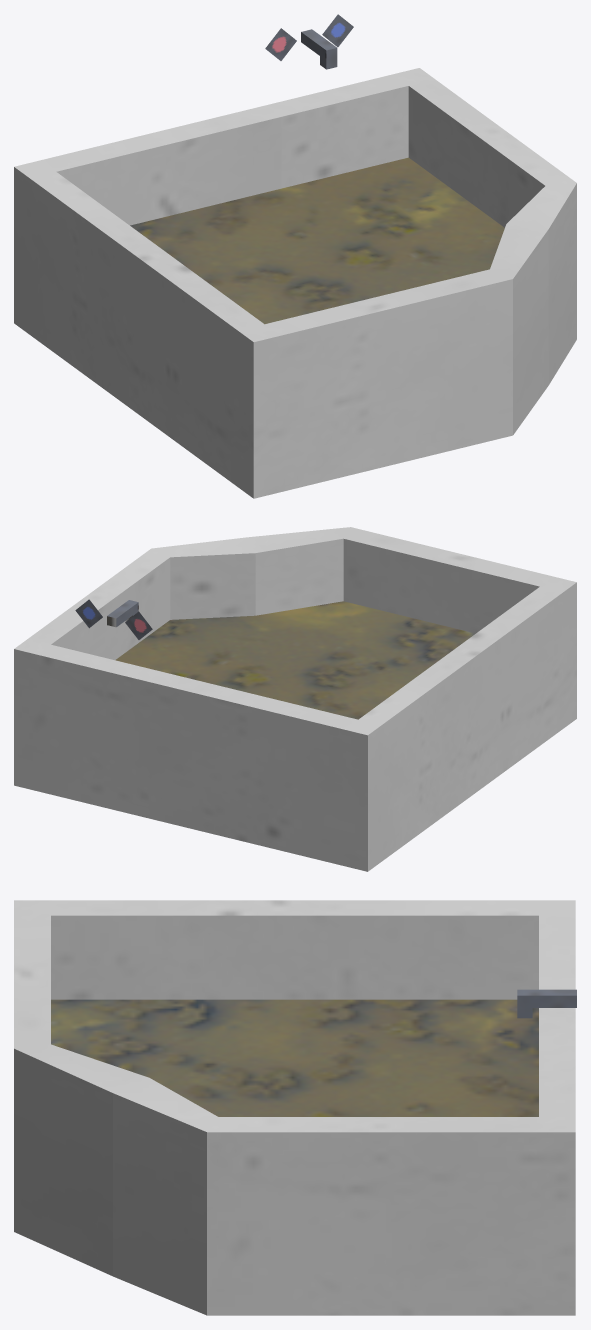
The model's file is Bain.fbx.
3 renders of one model, top to bottom at view 1: azimuth 30°, elevation 25°; view 2: azimuth 150°, elevation 25°; view 3: azimuth 270°, elevation 25°, orthographic. The views are drawn at different scales.
Visible parts, largest first — view 1: Cube; view 2: Cube; view 3: Cube.
Boxes of the visible parts, left/top/right/bottom form: Cube: left=14, top=14, right=576, bottom=498; Cube: left=14, top=527, right=576, bottom=871; Cube: left=14, top=900, right=576, bottom=1315.
Size of the model in its own units: 717 by 393 by 736.
1 material, 1 textured.
